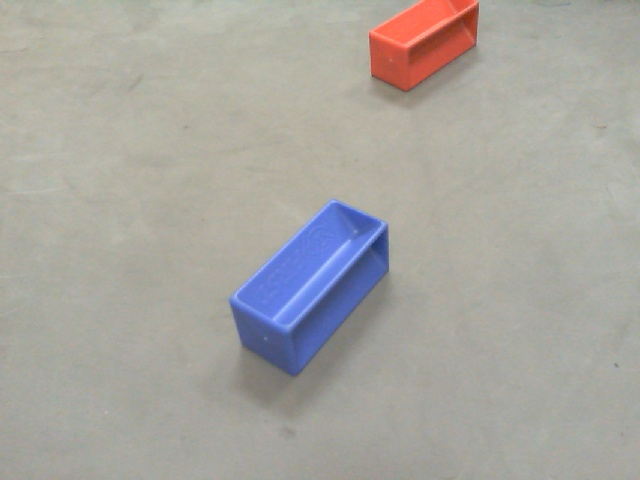BlueSample: (221, 198, 389, 378)
RedSample: (366, 1, 485, 93)
